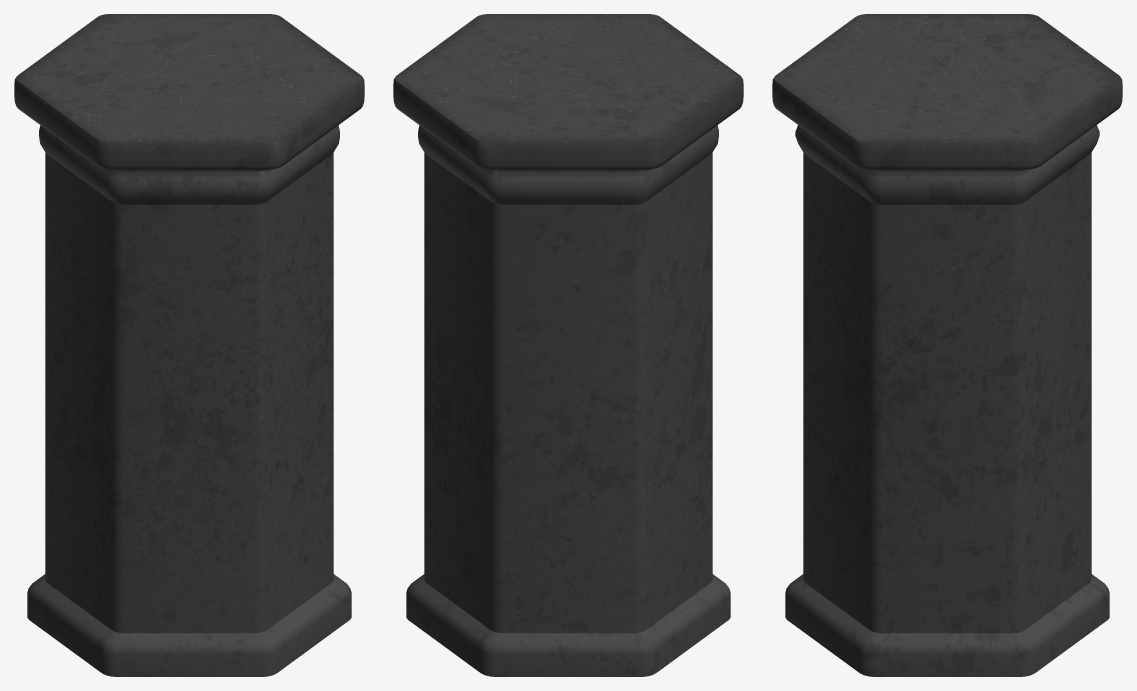
File: JarPedestal.fbx
3 renders of one model, left to right at view 1: azimuth 30°, elevation 25°; view 2: azimuth 150°, elevation 25°; view 3: azimuth 270°, elevation 25°, orthographic.
Parts seen in each view (by area): view 1: Cylinder; view 2: Cylinder; view 3: Cylinder.
Boxes of the visible parts, <box> form: Cylinder: <box>14,14,364,676</box>; Cylinder: <box>393,14,743,676</box>; Cylinder: <box>772,14,1122,676</box>.
Size of the model in its own units: 52.57 by 101 by 59.62.
1 material, 1 textured.
